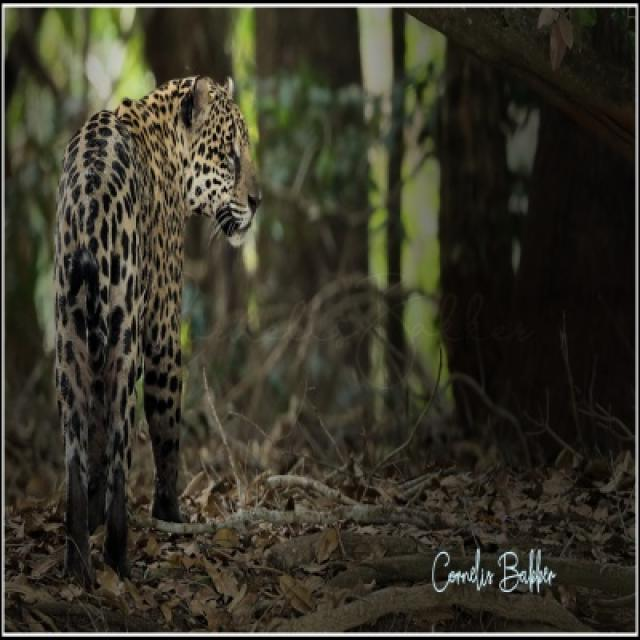Jaguar: (53, 78, 262, 594)
